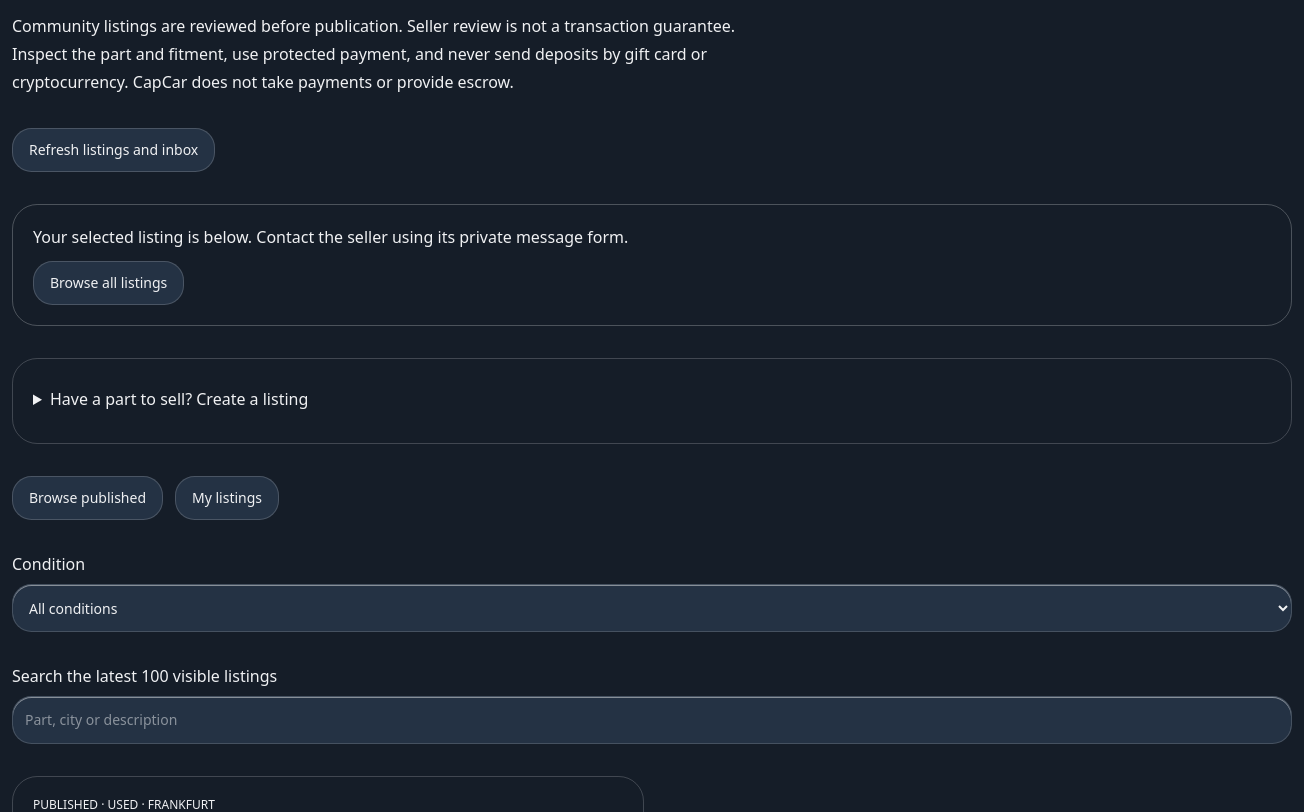
Test: marketplace continuation › keeps the requested listing after sign-in and lets the buyer return to browsing
This screenshot has width=1304, height=812.
Expected: the heading "other rear lights" is not shown
Step 1. Click the button "Browse all listings" → [109, 283], box [33,261,184,305]
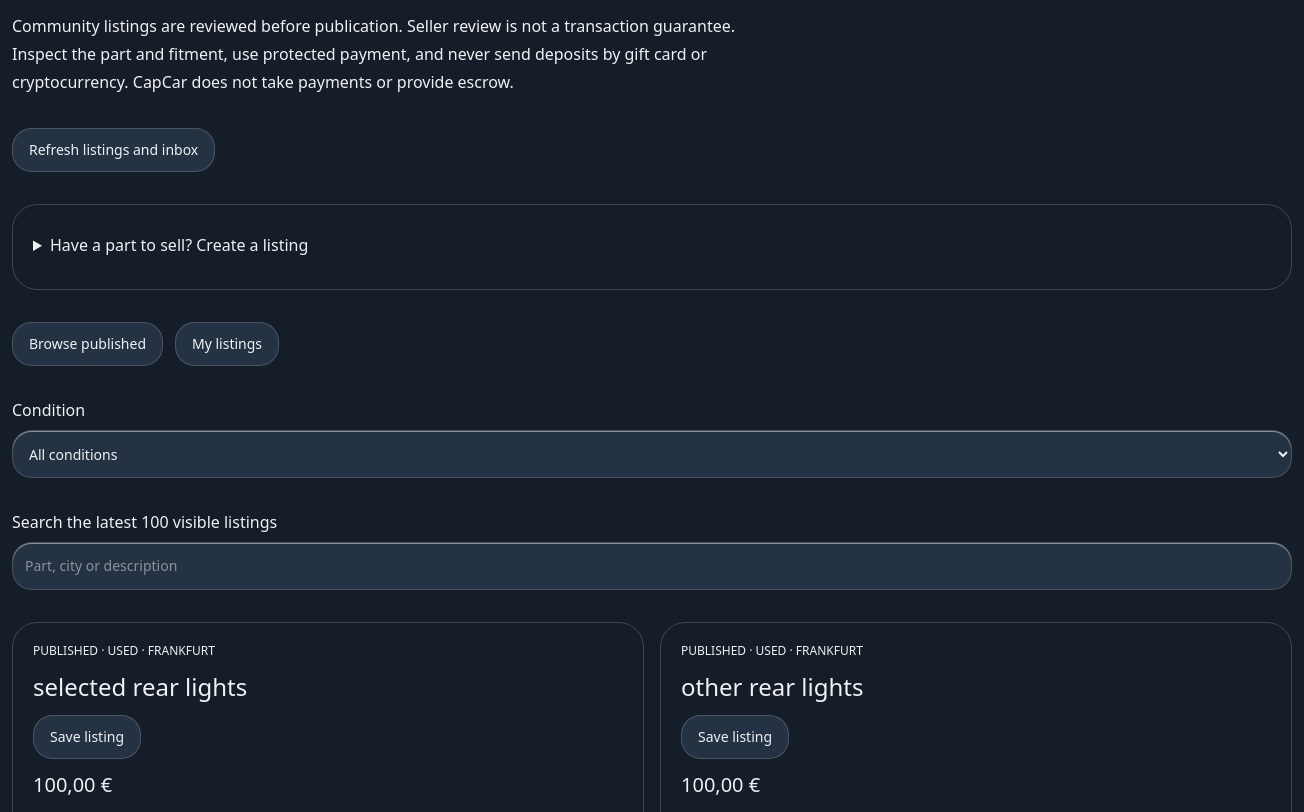
Now the heading "other rear lights" is shown, box [681,670,863,703]
